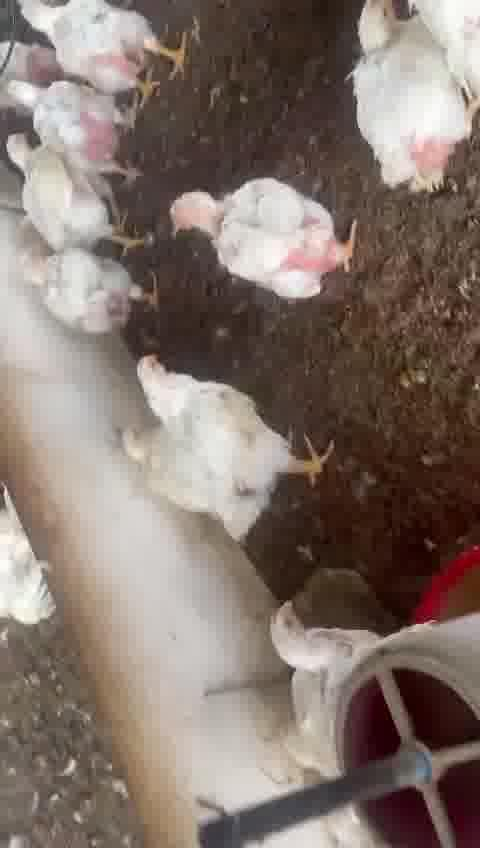AbNormal: (95, 408, 222, 532)
Normal: (132, 343, 324, 502), (165, 180, 384, 296), (243, 595, 373, 790), (340, 0, 470, 183), (9, 0, 206, 100), (5, 132, 130, 250), (18, 243, 162, 326), (7, 74, 144, 153)
